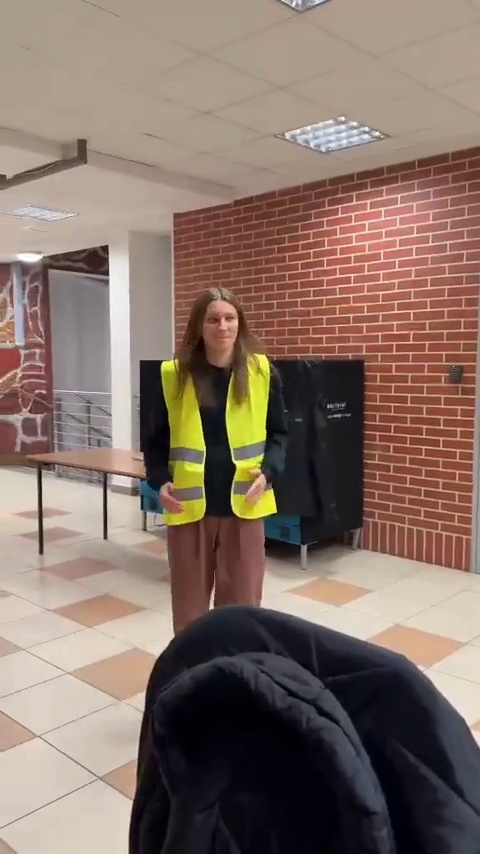vest: (146, 290, 302, 619)
